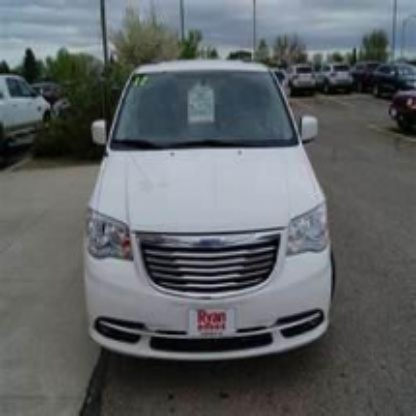Vehicle: (85, 61, 334, 362)
